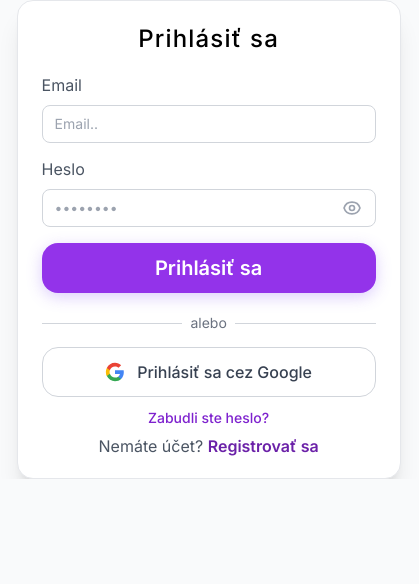
LoginForm › can retry after a session verification failure
Type "test@example.com" into the field labelled "Email" at (209, 124), box 42,105 -> 376,143
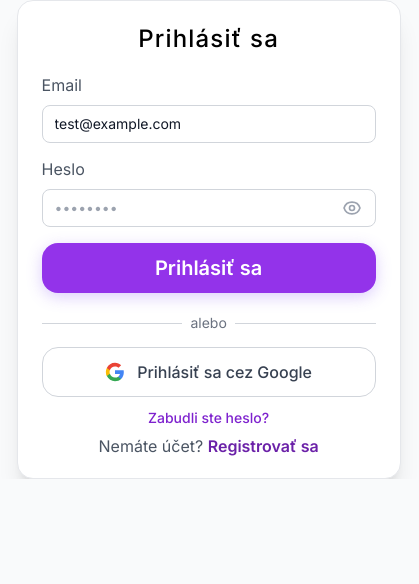
Type "password123" into the password field labelled "Heslo" at (209, 208), box 42,189 -> 376,227
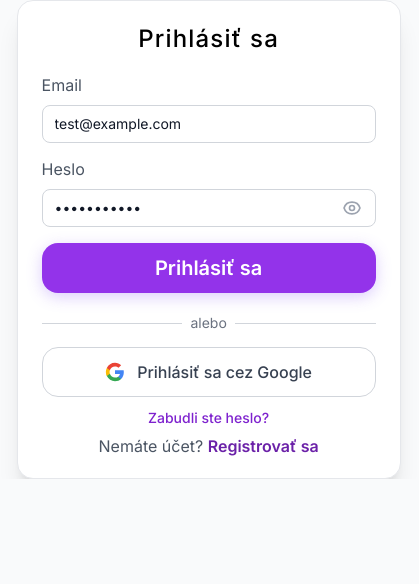
Click the button "Prihlásiť sa" at (209, 268), box 42,243 -> 376,293
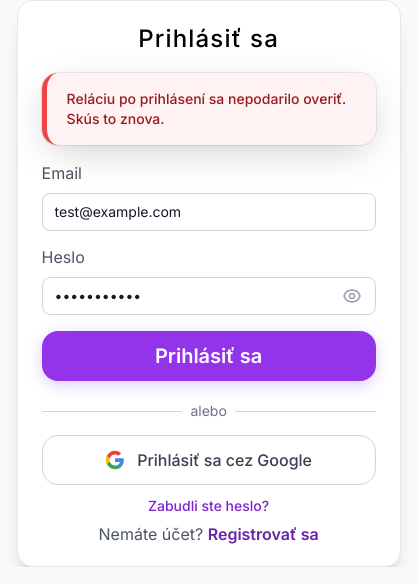
Result: the message "Reláciu po prihlásení sa nepodarilo overiť. Skús to znova." is shown at 42,73 -> 376,145
Click the button "Prihlásiť sa" at (209, 356), box 42,331 -> 376,381
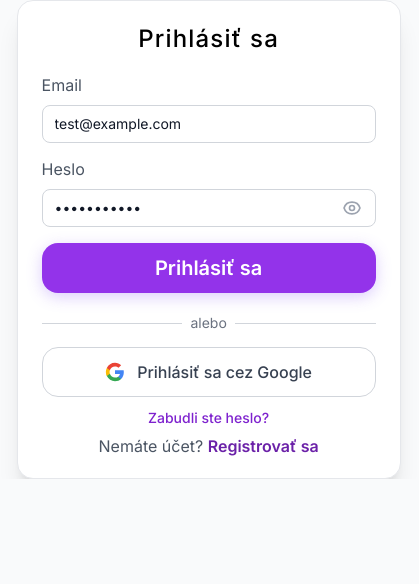
Result: the message "Reláciu po prihlásení sa nepodarilo overiť. Skús to znova." is gone
